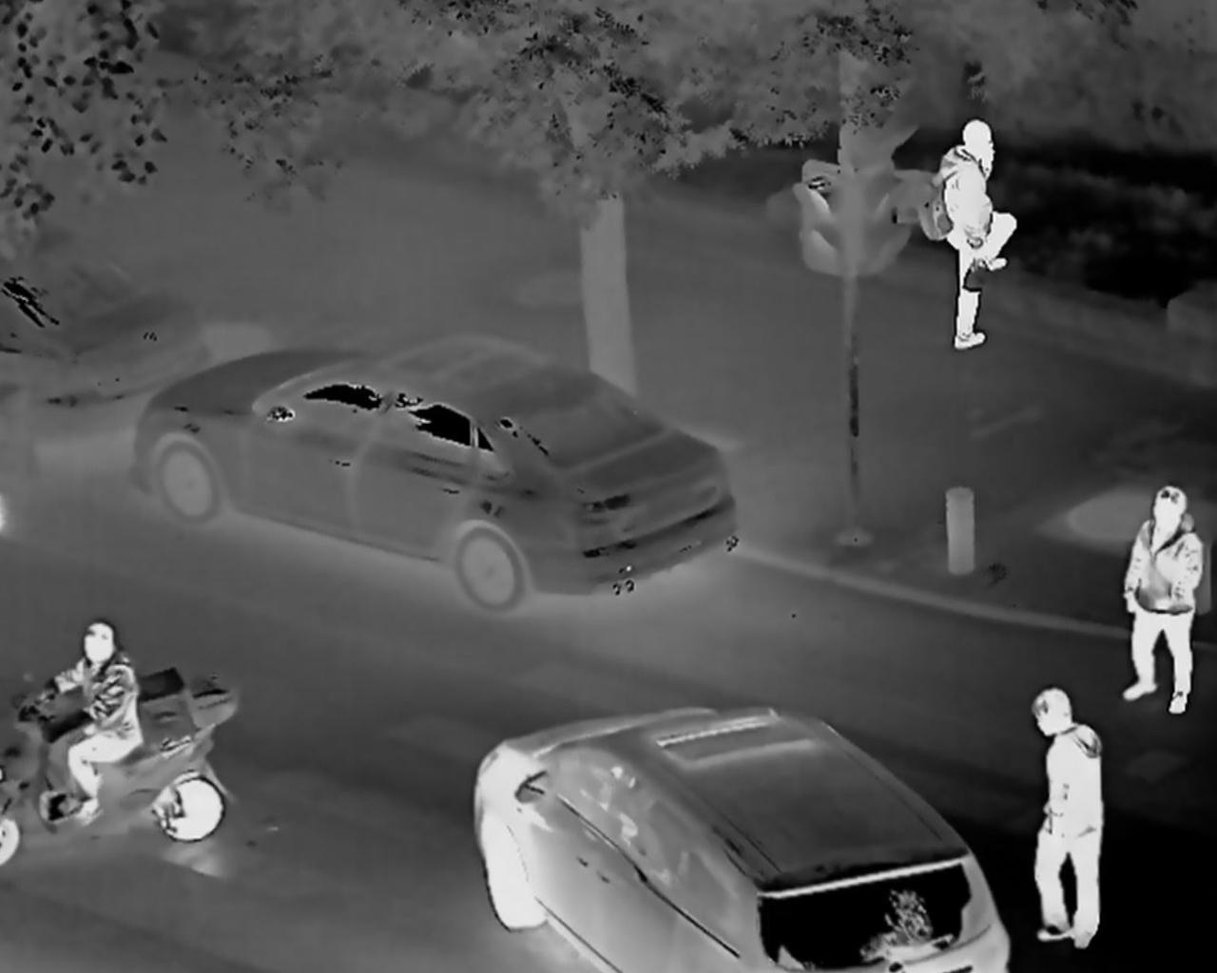person: (35, 610, 148, 813), (1114, 482, 1209, 720), (1029, 687, 1105, 952), (935, 123, 1014, 357)
